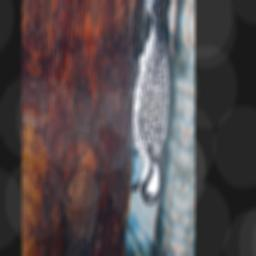Woodpecker: (117, 0, 178, 220)
